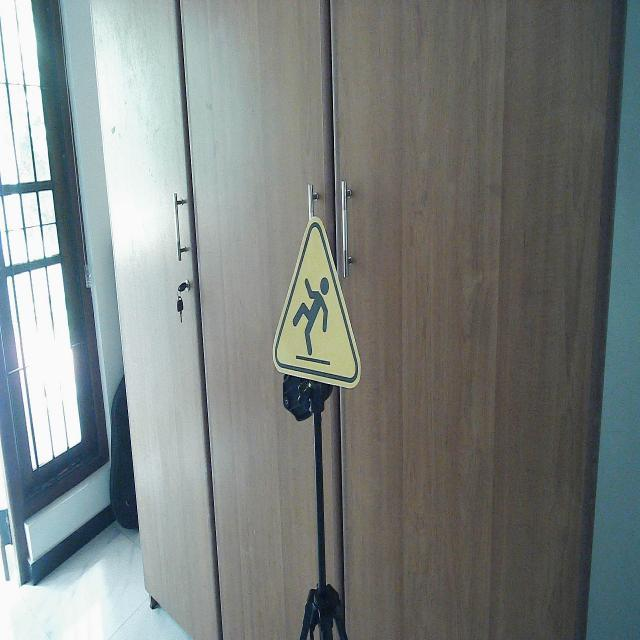slippery_sign: (270, 214, 364, 392)
